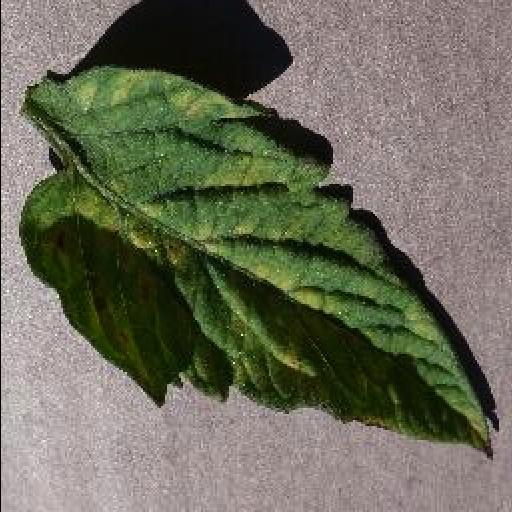disease_tomato: (20, 68, 494, 458)
